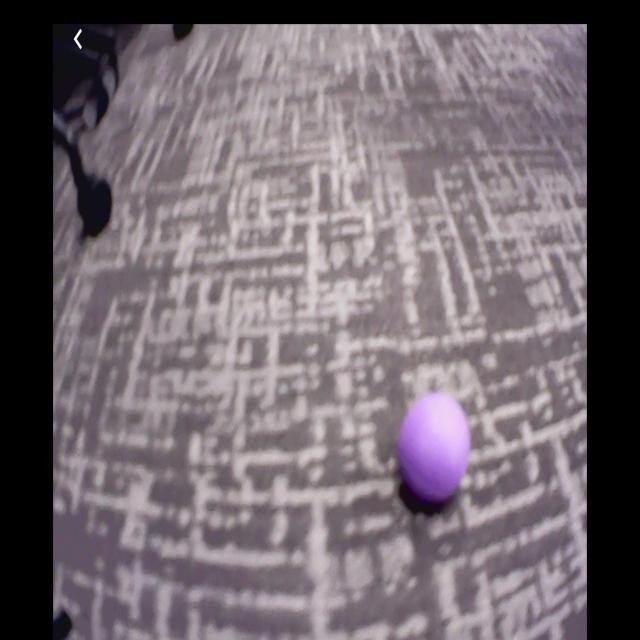ball: (396, 394, 471, 501)
